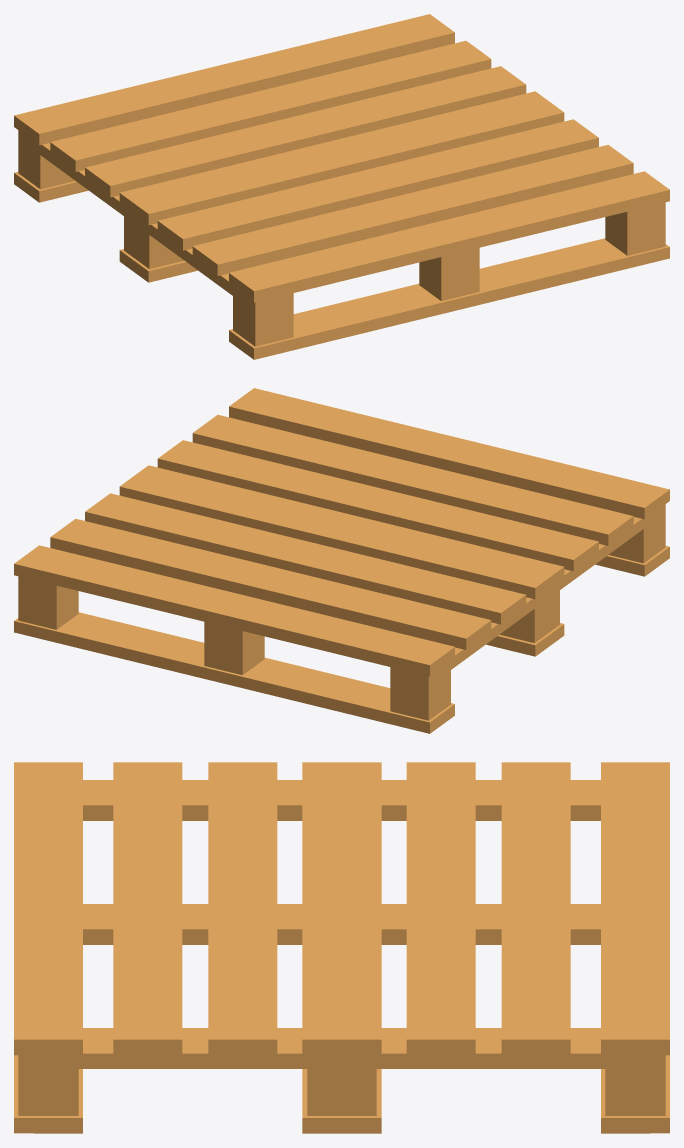
File: Planche.fbx
The picture shows the model from 3 angles, top to bottom: view 1: azimuth 30°, elevation 25°; view 2: azimuth 150°, elevation 25°; view 3: azimuth 270°, elevation 25°; orthographic projection. The views are drawn at different scales.
Parts seen in each view (by area): view 1: planche; view 2: planche; view 3: planche.
Boxes of the visible parts, bbox=[...] form: planche: bbox=[14, 14, 669, 359]; planche: bbox=[14, 388, 669, 733]; planche: bbox=[14, 762, 669, 1133].
Size of the model in its own units: 410 by 64.8 by 410.
